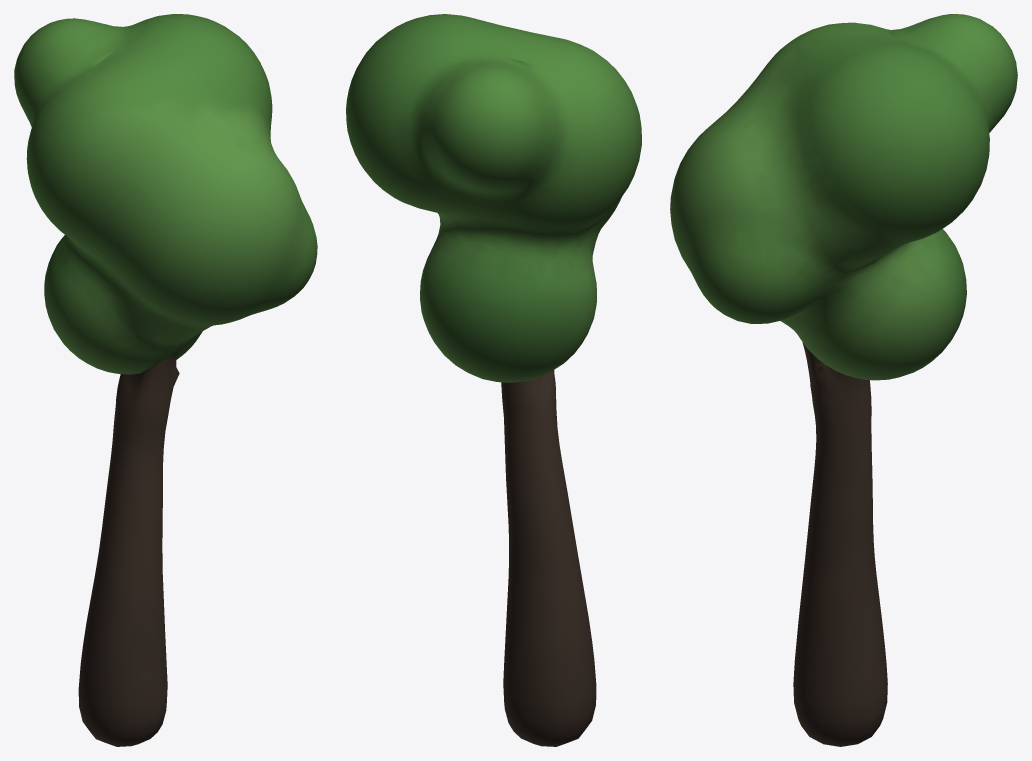
Rendered from tree_05_2.glb.
The picture shows the model from 3 angles, left to right: view 1: azimuth 30°, elevation 25°; view 2: azimuth 150°, elevation 25°; view 3: azimuth 270°, elevation 25°; orthographic projection. The views are drawn at different scales.
Visible parts, largest first — view 1: canopy, bark; view 2: canopy, bark; view 3: canopy, bark.
Part boxes in pixels (<box>): canopy: <box>14,14,317,374</box>; bark: <box>78,355,179,746</box>; canopy: <box>346,14,641,382</box>; bark: <box>501,370,596,746</box>; canopy: <box>670,14,1017,380</box>; bark: <box>793,342,887,746</box>.
Size of the model in its own units: 0.8135 by 2.23 by 0.9614.
